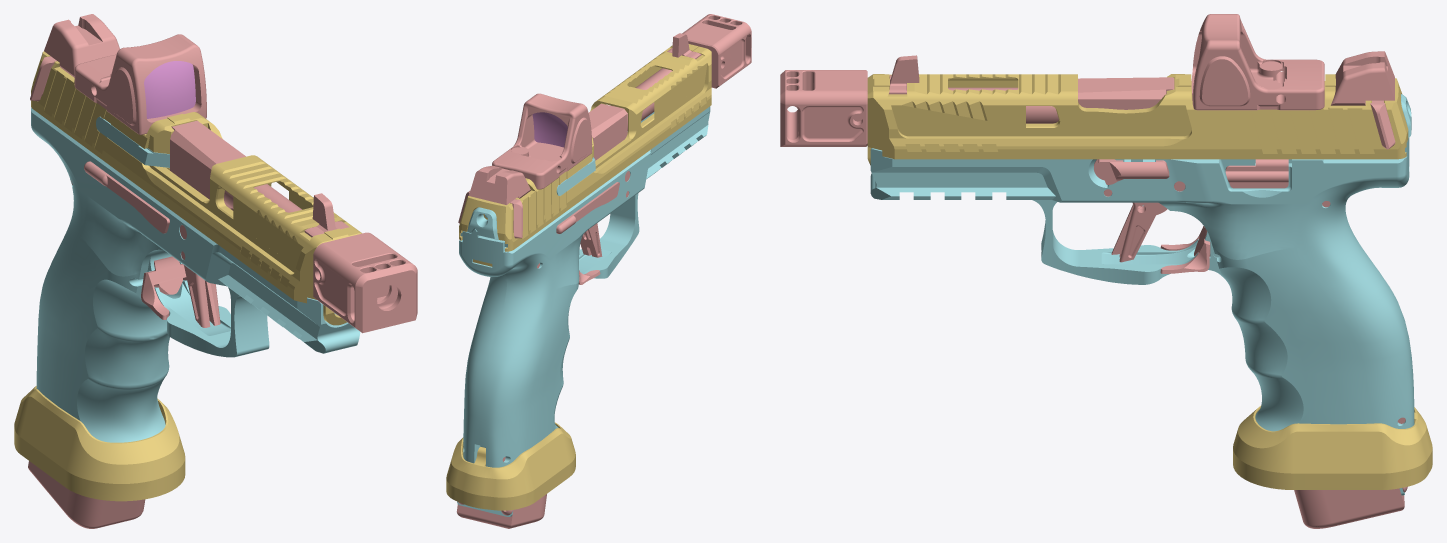
Rendered from chambre_gun 1.fbx.
The picture shows the model from 3 angles, left to right: view 1: azimuth 30°, elevation 25°; view 2: azimuth 150°, elevation 25°; view 3: azimuth 270°, elevation 25°; orthographic projection. The views are drawn at different scales.
Visible parts, largest first — view 1: msh_cha_gun; view 2: msh_cha_gun; view 3: msh_cha_gun.
Part boxes in pixels (x1=…): msh_cha_gun: x1=14, y1=14, x2=417, y2=528; msh_cha_gun: x1=446, y1=14, x2=751, y2=528; msh_cha_gun: x1=780, y1=14, x2=1432, y2=528.
Bounding box in the file's own units: 6.73 × 29.62 × 35.75.
